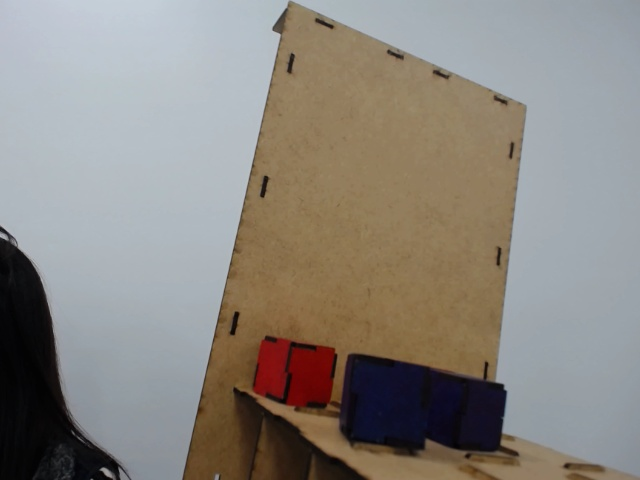blue: (344, 353, 430, 451), (431, 370, 507, 452)
red: (248, 334, 336, 404)
